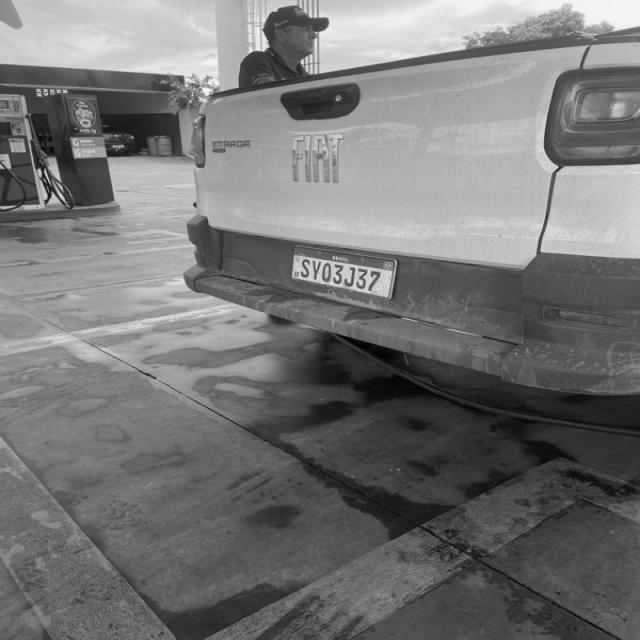placa_mercosul: (290, 246, 399, 302)
